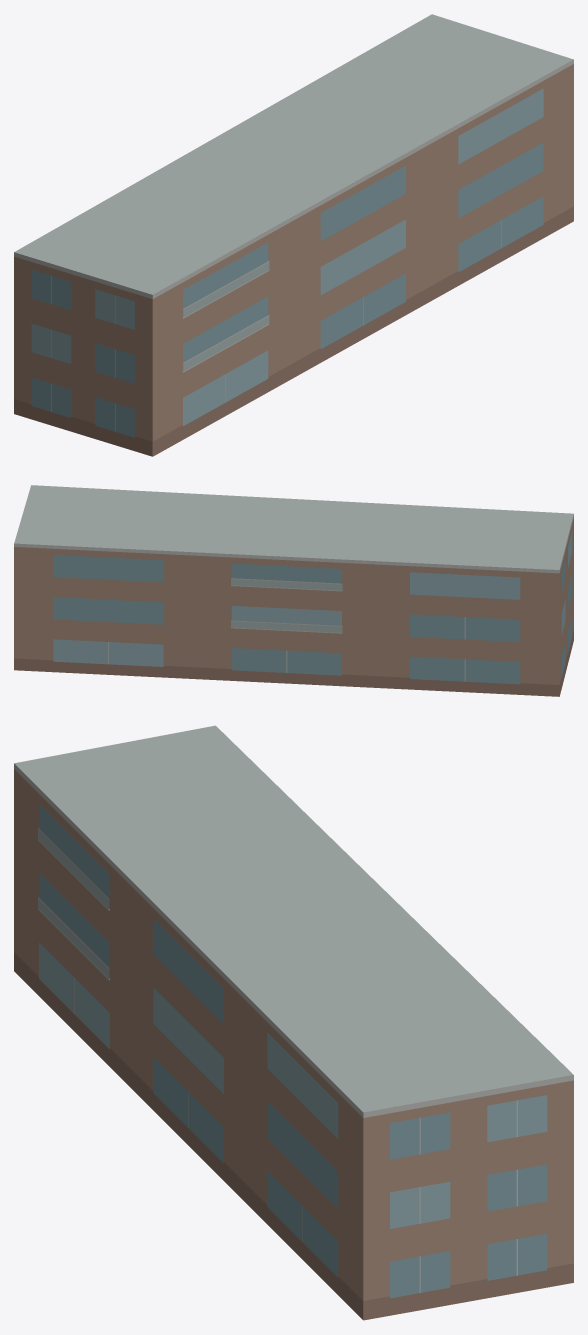
The model's file is survey-upis-32996800.glb.
The picture shows the model from 3 angles, top to bottom: view 1: azimuth 30°, elevation 25°; view 2: azimuth 150°, elevation 25°; view 3: azimuth 270°, elevation 25°; orthographic projection. The views are drawn at different scales.
Parts seen in each view (by area): view 1: survey-upis-32996800.tmp; view 2: survey-upis-32996800.tmp; view 3: survey-upis-32996800.tmp.
Boxes of the visible parts, x1=… form: survey-upis-32996800.tmp: x1=14, y1=14, x2=573, y2=456; survey-upis-32996800.tmp: x1=14, y1=485, x2=573, y2=696; survey-upis-32996800.tmp: x1=14, y1=725, x2=573, y2=1320.
Bounding box in the file's own units: 36.54 × 9.15 × 22.34.
